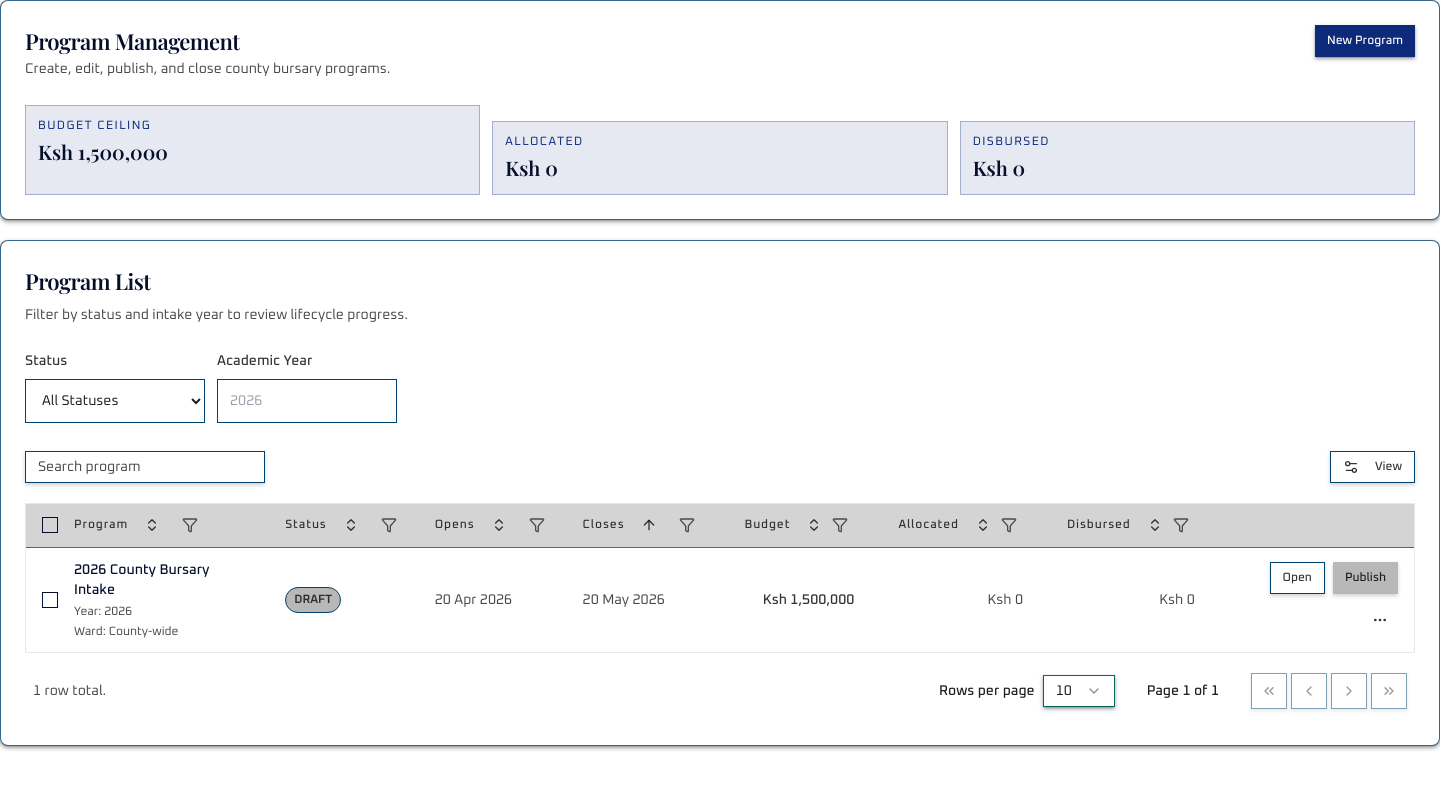
ProgramSettingsListPage › publishes a draft program and refreshes list data
The image size is (1440, 810).
What coordinates should you click on to do the following:
click the button "Publish"
I would click on:
 (1365, 578)
Its box is [1333,562,1398,594].
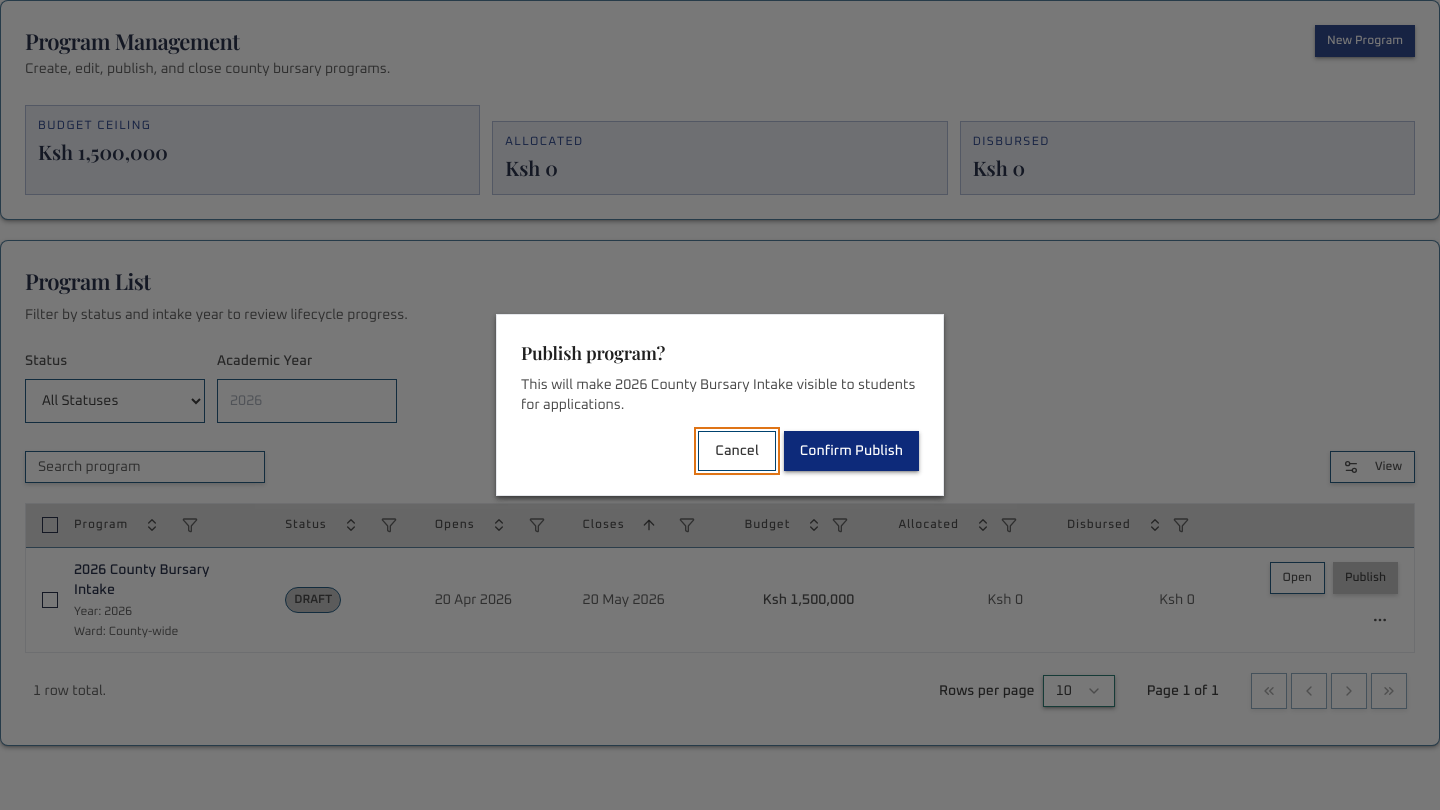
What coordinates should you click on to do the following:
click the button "Confirm Publish"
I would click on:
 (851, 451)
Its box is [784,431,919,471].
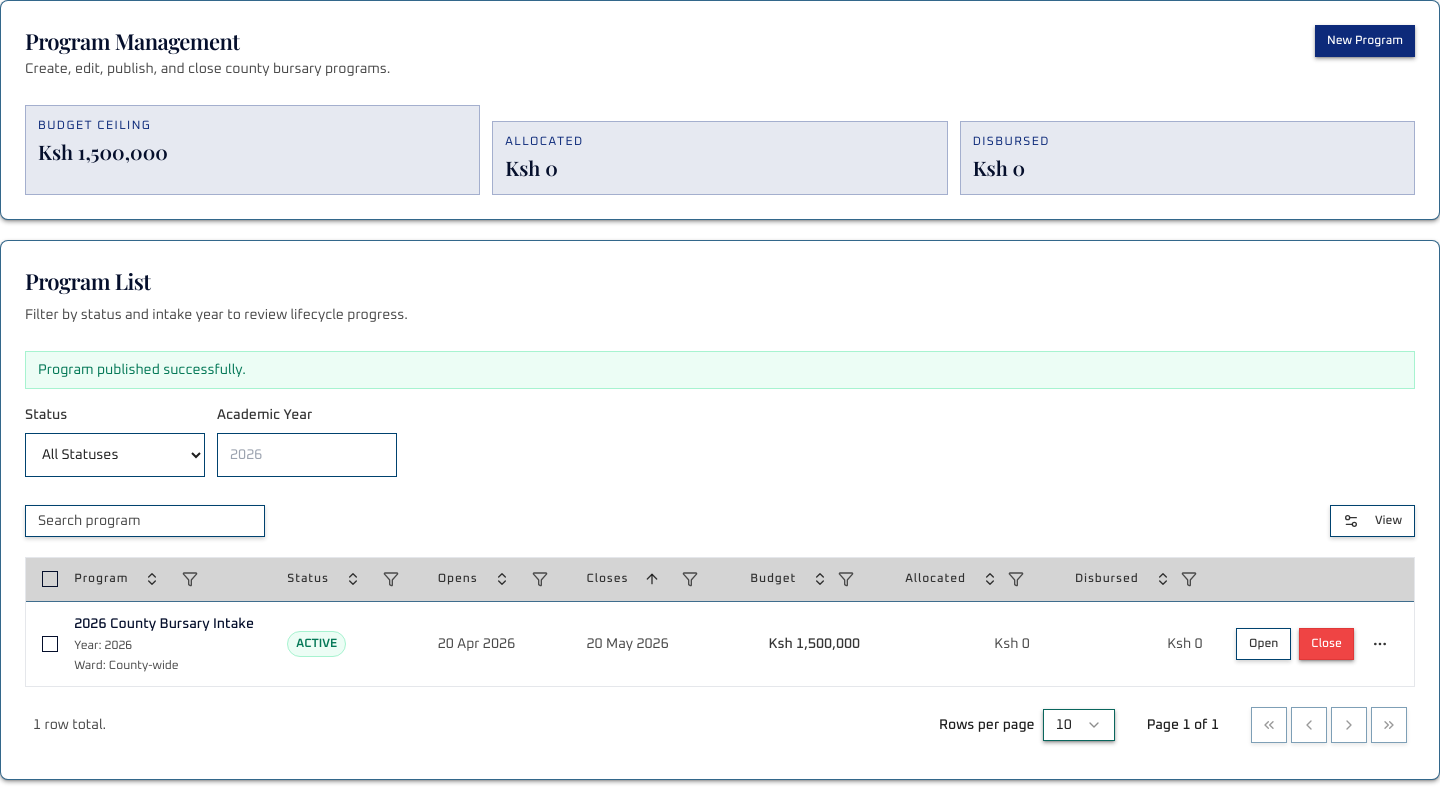
Expected: the text "Program published successfully." is shown, [25,350,1415,388]
